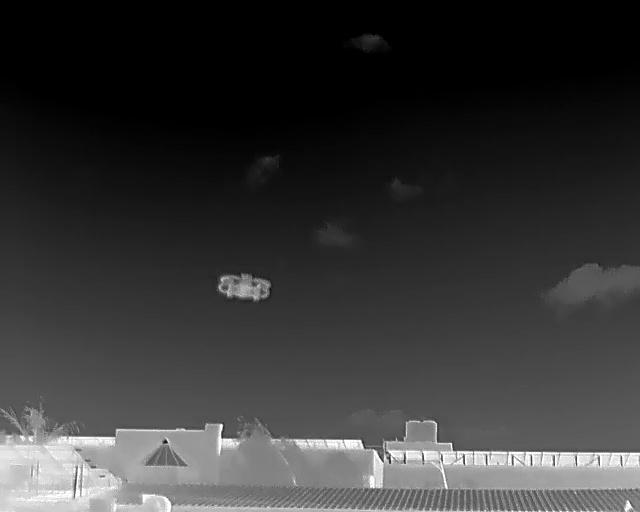fpv-drone: (217, 273, 270, 302)
